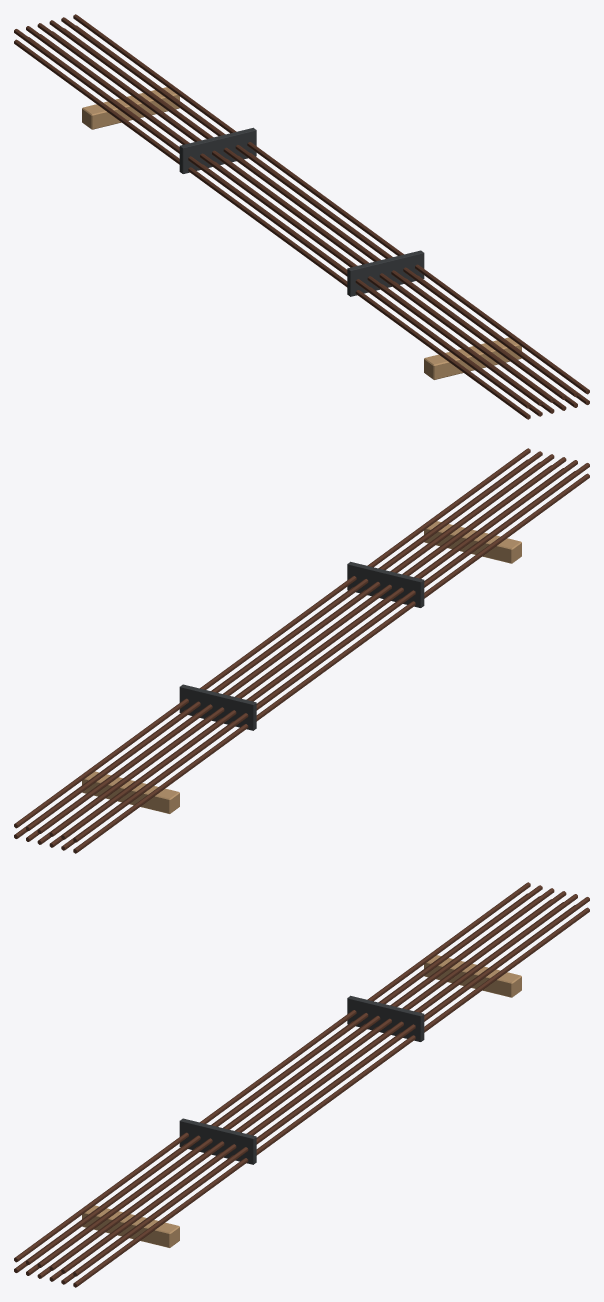
Rendered from prop_site_rebar_bundle.glb.
3 views of the same model, one above another, from view 1: azimuth 30°, elevation 25°; view 2: azimuth 150°, elevation 25°; view 3: azimuth 330°, elevation 25° (orthographic).
Parts seen in each view (by area): view 1: Body; view 2: Body; view 3: Body.
Boxes of the visible parts, box(x1,y1,x2,y2) form: Body: box(14, 14, 589, 419); Body: box(14, 448, 589, 853); Body: box(14, 882, 589, 1287).
Bounding box in the file's own units: 0.6 × 0.27 × 6.
